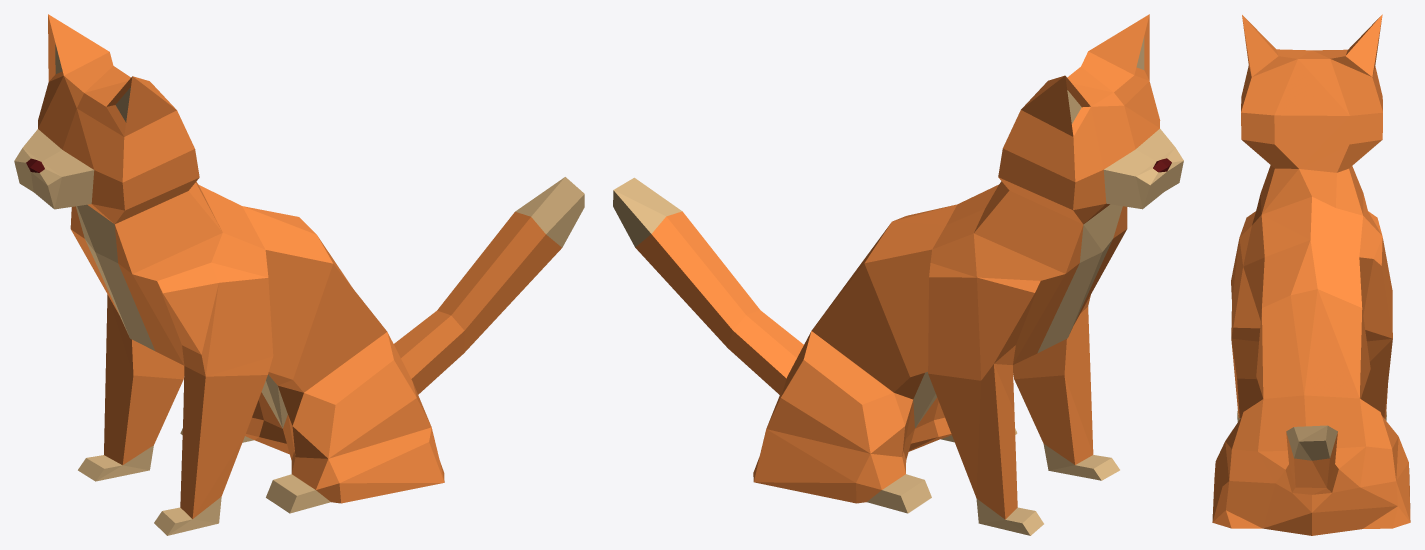
File: gato.fbx
3 views of the same model, side by side, from view 1: azimuth 30°, elevation 25°; view 2: azimuth 150°, elevation 25°; view 3: azimuth 270°, elevation 25° (orthographic). The views are drawn at different scales.
Parts seen in each view (by area): view 1: gato.001; view 2: gato.001; view 3: gato.001.
Boxes of the visible parts, x1=… form: gato.001: x1=14, y1=14, x2=584, y2=535; gato.001: x1=613, y1=14, x2=1183, y2=535; gato.001: x1=1212, y1=14, x2=1410, y2=535.
Size of the model in its own units: 227 by 189 by 85.46.
